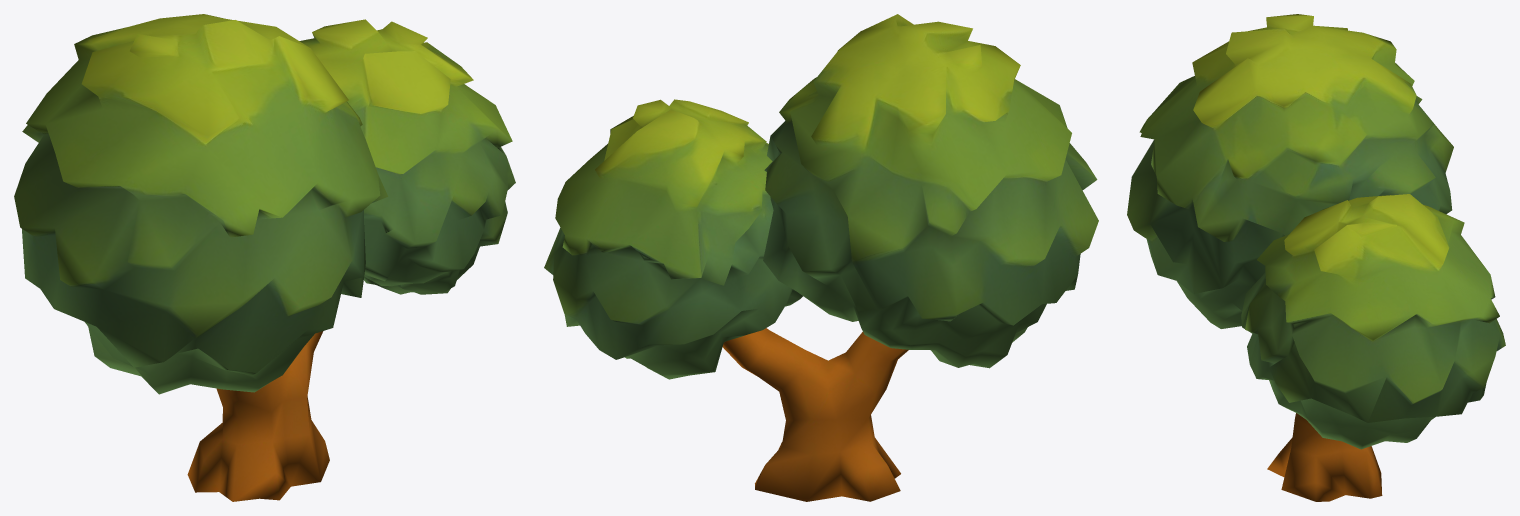
3 views of the same model, side by side, from view 1: azimuth 30°, elevation 25°; view 2: azimuth 150°, elevation 25°; view 3: azimuth 270°, elevation 25° (orthographic). The views are drawn at different scales.
Parts seen in each view (by area): view 1: tripo_node_6c2bceb8-5523-483f-b732-52e78897db3d; view 2: tripo_node_6c2bceb8-5523-483f-b732-52e78897db3d; view 3: tripo_node_6c2bceb8-5523-483f-b732-52e78897db3d.
Part boxes in pixels (x1,y1,x2,y2): tripo_node_6c2bceb8-5523-483f-b732-52e78897db3d: (14, 14, 515, 501); tripo_node_6c2bceb8-5523-483f-b732-52e78897db3d: (544, 14, 1098, 501); tripo_node_6c2bceb8-5523-483f-b732-52e78897db3d: (1127, 14, 1505, 501).
Size of the model in its own units: 0.998 by 0.9277 by 0.7715.
1 material, 1 textured.
